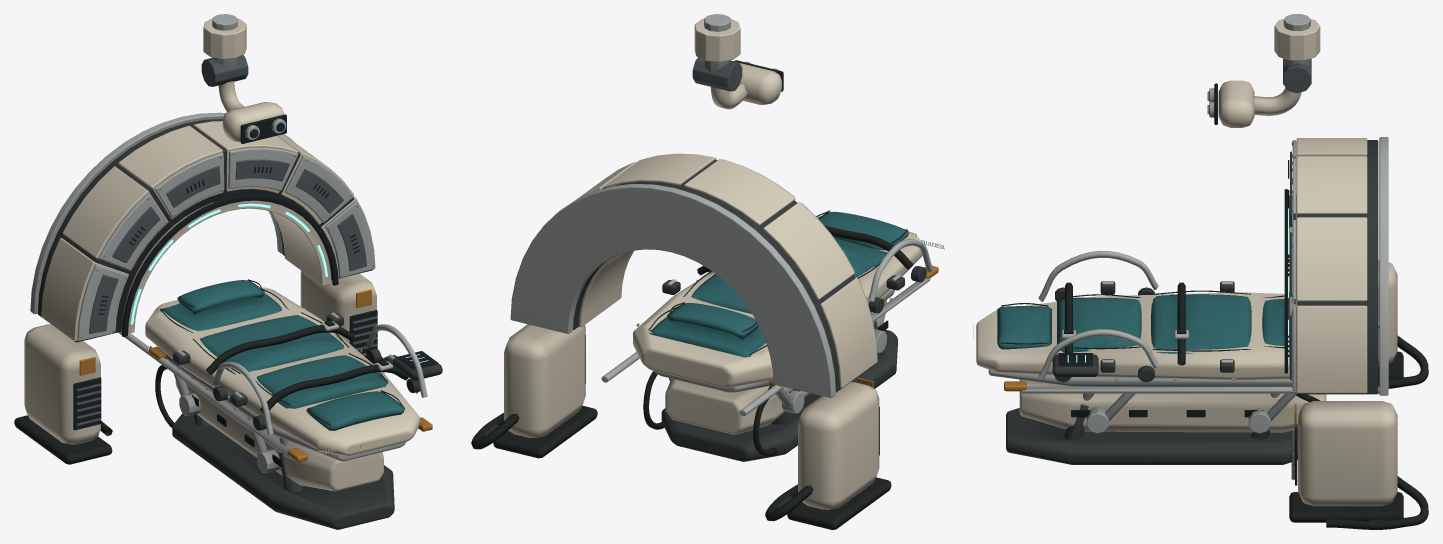
File: examination-low.glb
3 views of the same model, side by side, from view 1: azimuth 30°, elevation 25°; view 2: azimuth 150°, elevation 25°; view 3: azimuth 270°, elevation 25° (orthographic). The views are drawn at different scales.
Visible parts, largest first — view 1: examination__Ceramic medical shell, examination__Satin aluminium, examination__Coated pressure frame, examination__Medical upholstery, examination__Recessed titanium panels, examination__Recess and gasket, examination__Restraint webbing, examination__Ochre anodized service fittings, examination__Scanner sensing indicator; view 2: examination__Ceramic medical shell, examination__Satin aluminium, examination__Coated pressure frame, examination__Medical upholstery, examination__Restraint webbing, examination__Recessed titanium panels; view 3: examination__Ceramic medical shell, examination__Coated pressure frame, examination__Satin aluminium, examination__Medical upholstery, examination__Restraint webbing, examination__Recess and gasket, examination__Recessed titanium panels.
Part boxes in pixels (bbox=[...]): examination__Ceramic medical shell: bbox=[24, 18, 419, 491]; examination__Satin aluminium: bbox=[30, 14, 427, 472]; examination__Coated pressure frame: bbox=[37, 119, 442, 529]; examination__Medical upholstery: bbox=[160, 280, 404, 430]; examination__Recessed titanium panels: bbox=[76, 55, 377, 492]; examination__Recess and gasket: bbox=[73, 114, 438, 467]; examination__Restraint webbing: bbox=[14, 279, 408, 464]; examination__Ochre anodized service fittings: bbox=[79, 289, 432, 461]; examination__Scanner sensing indicator: bbox=[130, 203, 428, 362]; examination__Ceramic medical shell: bbox=[504, 18, 922, 509]; examination__Satin aluminium: bbox=[510, 14, 933, 416]; examination__Coated pressure frame: bbox=[476, 160, 926, 508]; examination__Medical upholstery: bbox=[648, 211, 909, 357]; examination__Restraint webbing: bbox=[471, 210, 913, 529]; examination__Recessed titanium panels: bbox=[692, 57, 882, 424]; examination__Ceramic medical shell: bbox=[976, 18, 1397, 506]; examination__Coated pressure frame: bbox=[1006, 140, 1398, 526]; examination__Satin aluminium: bbox=[988, 14, 1388, 433]; examination__Medical upholstery: bbox=[997, 292, 1289, 353]; examination__Restraint webbing: bbox=[1001, 282, 1428, 529]; examination__Recess and gasket: bbox=[1058, 83, 1297, 485]; examination__Recessed titanium panels: bbox=[1064, 59, 1311, 479].
Size of the model in its own units: 2.85 by 3.23 by 3.15.
